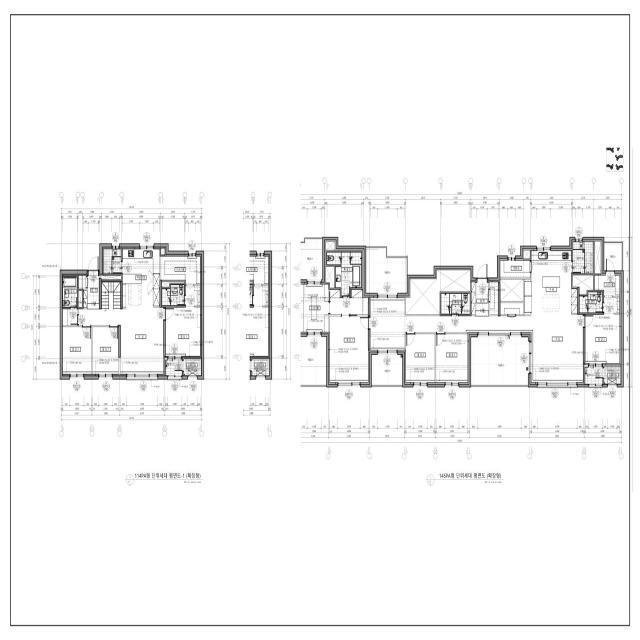space_balconi: (471, 337, 528, 384), (366, 249, 407, 293), (372, 355, 403, 384), (573, 242, 593, 273), (103, 249, 121, 274), (604, 244, 621, 270), (585, 368, 603, 384), (166, 359, 182, 375)
space_bedroom: (330, 316, 368, 382), (166, 286, 201, 356), (585, 297, 620, 363), (436, 334, 468, 382), (406, 334, 435, 382), (63, 327, 91, 374), (93, 327, 119, 374)
space_dressroom: (300, 284, 329, 332), (161, 256, 201, 285), (595, 275, 620, 296)
space_front: (471, 282, 489, 316), (83, 276, 99, 309)
space_kitchen: (525, 251, 577, 315), (122, 249, 160, 308)
space_living_room: (370, 298, 583, 382), (79, 307, 164, 374)
space_other: (406, 270, 470, 314), (330, 290, 368, 314), (101, 282, 121, 309), (500, 261, 530, 278), (500, 279, 523, 301), (573, 275, 593, 294), (500, 303, 523, 315), (490, 282, 498, 314), (63, 309, 78, 325), (595, 242, 601, 274), (326, 267, 334, 288), (162, 282, 184, 287), (101, 275, 121, 280), (79, 275, 86, 289), (326, 242, 335, 250), (524, 250, 530, 259), (79, 291, 82, 307), (161, 249, 165, 255)
space_outdoor_room: (604, 366, 621, 384), (183, 359, 201, 375)
space_toilet: (327, 252, 361, 296), (441, 294, 470, 314), (580, 292, 603, 313), (162, 285, 184, 305), (63, 277, 77, 307)
